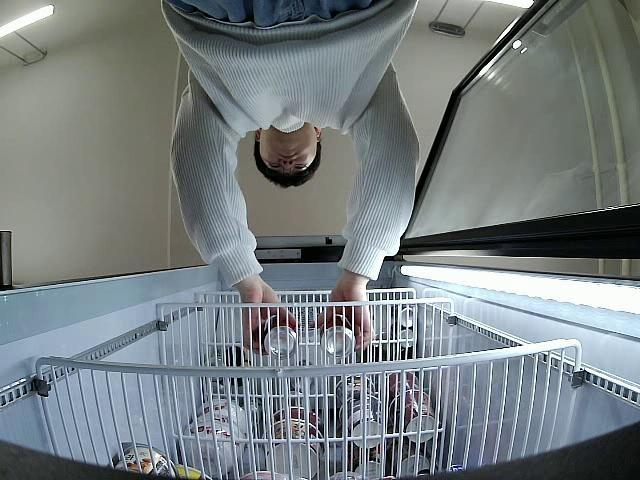11_cocaColaZero: (262, 313, 302, 359), (320, 316, 356, 358)
